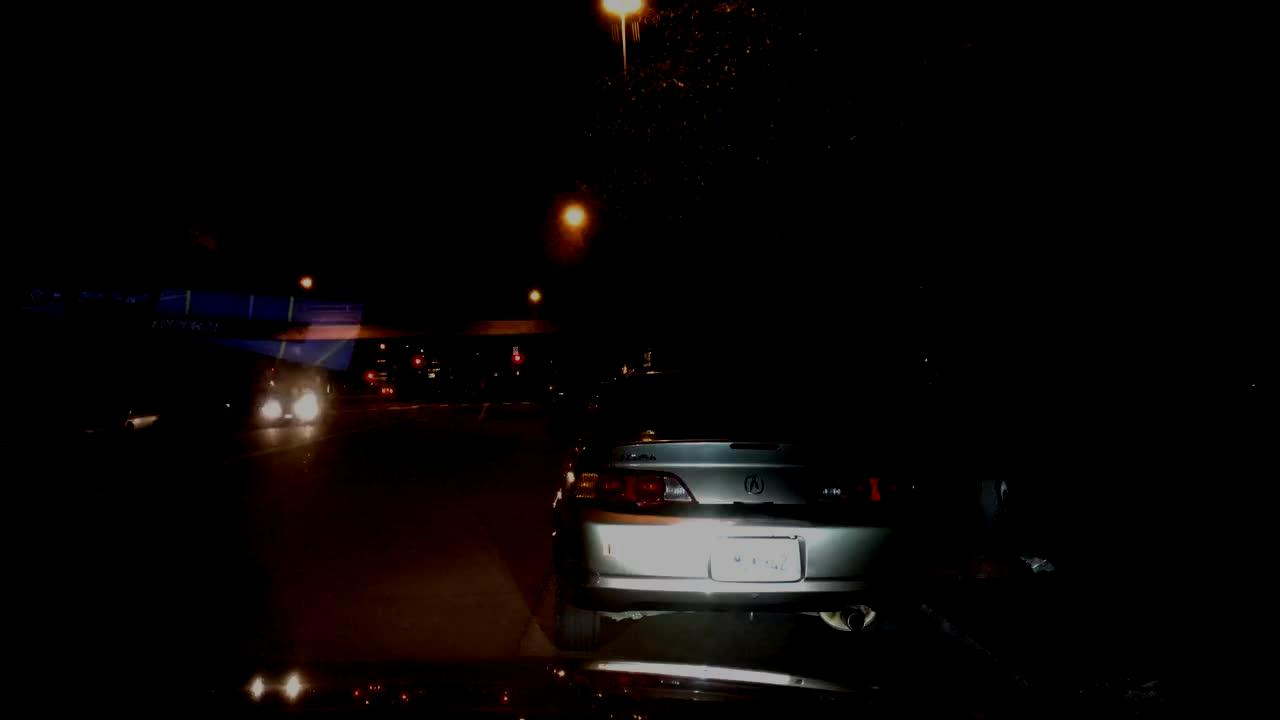acura: (739, 465, 775, 501)
